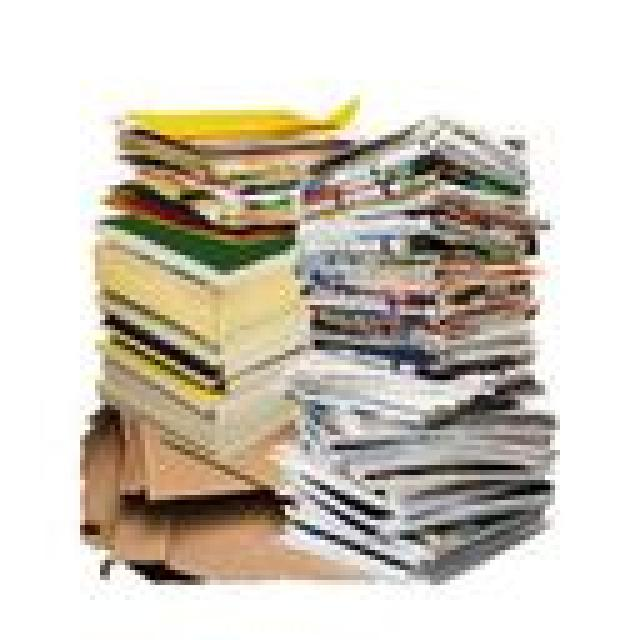cardboard: (75, 400, 375, 580), (110, 400, 290, 495)
paper: (290, 425, 545, 520), (275, 340, 545, 425), (270, 485, 535, 570), (290, 390, 550, 475), (85, 235, 300, 335), (300, 110, 525, 195), (100, 350, 300, 445), (295, 250, 525, 330), (80, 210, 295, 285), (95, 320, 305, 390), (110, 125, 350, 185), (95, 170, 305, 235), (300, 200, 535, 255), (115, 155, 295, 225), (310, 310, 530, 365), (105, 290, 315, 345), (265, 430, 380, 510), (115, 100, 355, 135)
